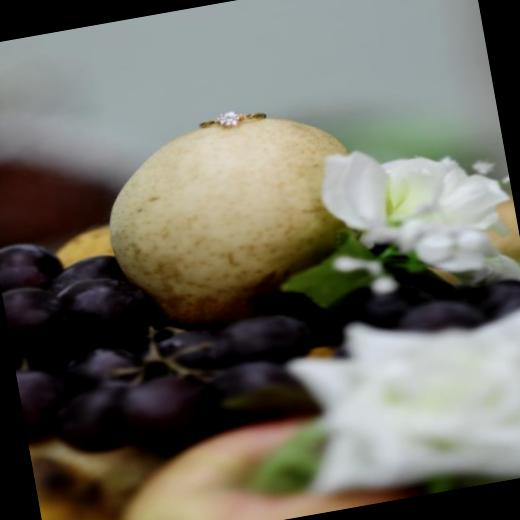Orange: (0, 158, 520, 474)
